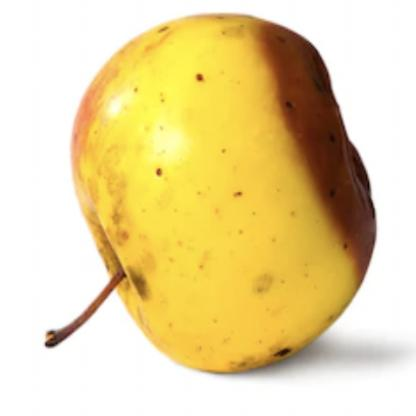Rotten Apple: (70, 15, 377, 378)
